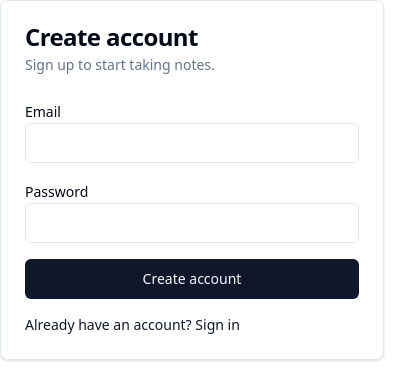
Test: auth-ui › Registration screen › disables the submit button while pending
This screenshot has width=401, height=378.
Type "new@b.com" into the field labelled "Email" at (192, 143), box left=25, top=123, right=359, bottom=163
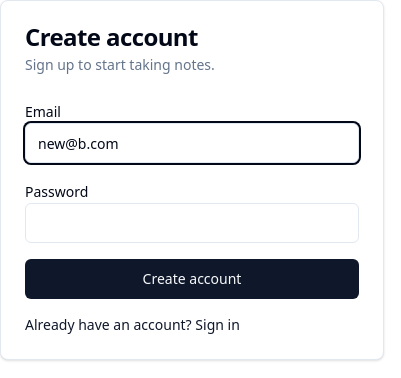
Type "Passw0rd" into the password field labelled "Password" at (192, 223), box left=25, top=203, right=359, bottom=243
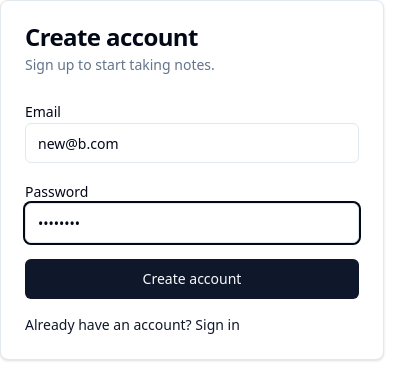
Click the button "Create account" at (192, 279), box left=25, top=259, right=359, bottom=299
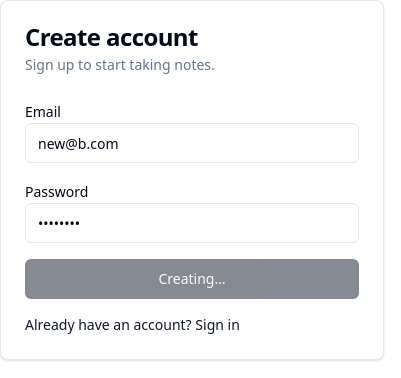
expect the button "Creating…" is disabled: met, box left=25, top=259, right=359, bottom=299
